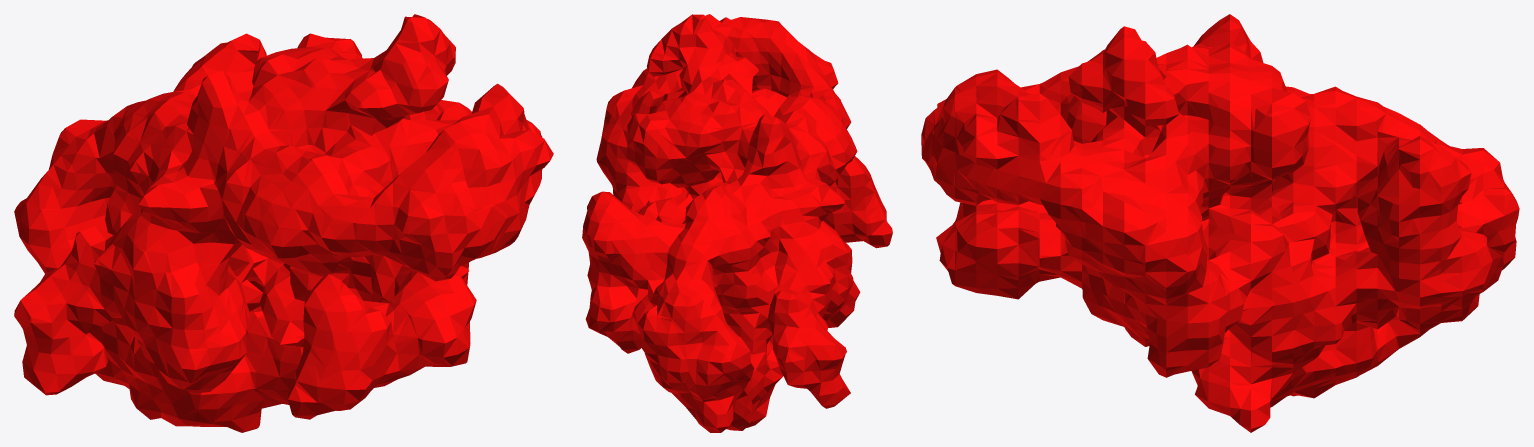
File: yacG_coarse.dae
3 renders of one model, left to right at view 1: azimuth 30°, elevation 25°; view 2: azimuth 150°, elevation 25°; view 3: azimuth 270°, elevation 25°, orthographic. The views are drawn at different scales.
Parts seen in each view (by area): view 1: yacG; view 2: yacG; view 3: yacG.
Boxes of the visible parts, <box> form: yacG: <box>14,14,553,432</box>; yacG: <box>582,14,892,432</box>; yacG: <box>921,14,1519,432</box>.
Size of the model in its own units: 146 by 147 by 183.
